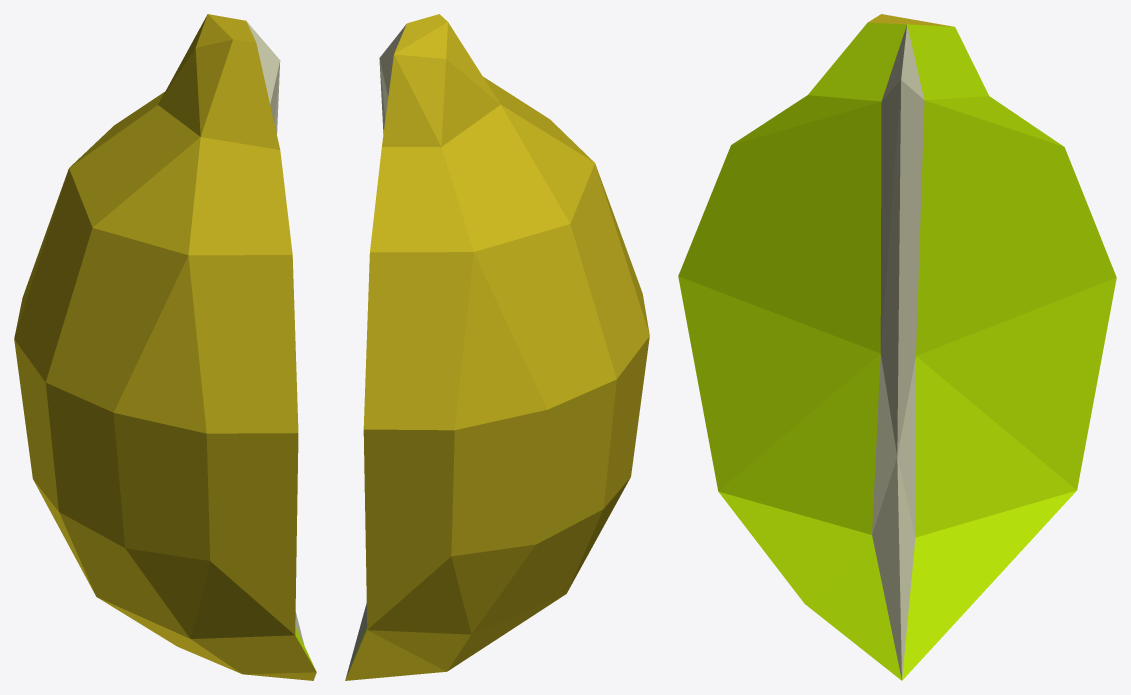
File: half_lemon.glb
3 renders of one model, left to right at view 1: azimuth 30°, elevation 25°; view 2: azimuth 150°, elevation 25°; view 3: azimuth 270°, elevation 25°, orthographic. The views are drawn at different scales.
Parts seen in each view (by area): view 1: Lemon Slice; view 2: Lemon Slice; view 3: Lemon Slice.
Boxes of the visible parts, <box> form: Lemon Slice: <box>14,14,316,680</box>; Lemon Slice: <box>345,14,649,680</box>; Lemon Slice: <box>678,14,1116,680</box>.
Size of the model in its own units: 0.053 by 0.1266 by 0.0802.
1 material, 1 textured.
